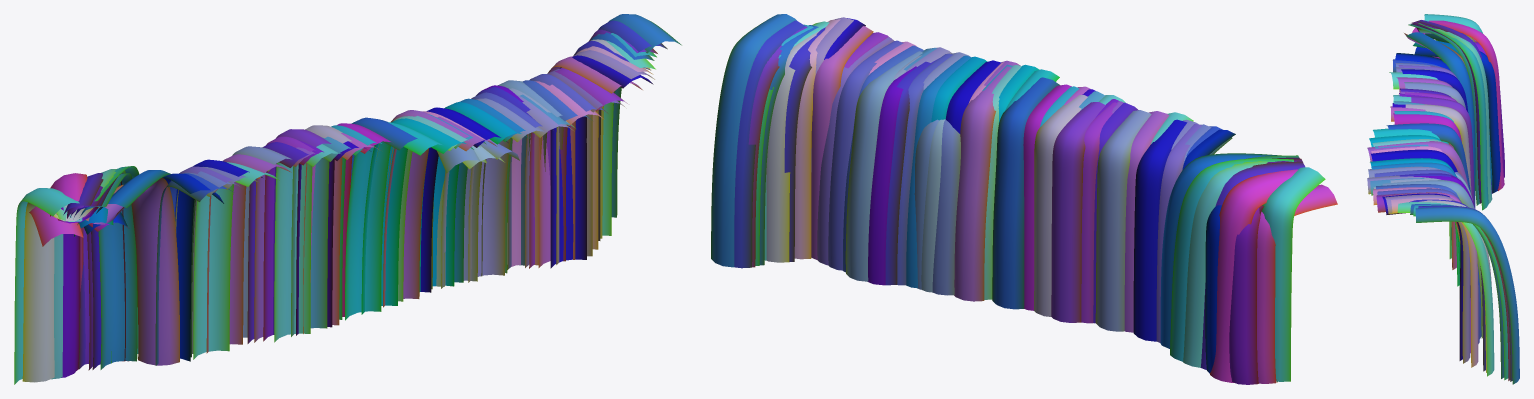
The model's file is Waterfall 1.fbx.
3 renders of one model, left to right at view 1: azimuth 30°, elevation 25°; view 2: azimuth 150°, elevation 25°; view 3: azimuth 270°, elevation 25°, orthographic. The views are drawn at different scales.
Visible parts, largest first — view 1: WaterFall; view 2: WaterFall; view 3: WaterFall.
Part boxes in pixels (x1,y1,x2,y2): WaterFall: [14, 14, 681, 384]; WaterFall: [711, 14, 1337, 384]; WaterFall: [1367, 14, 1519, 384].
Bounding box in the file's own units: 3503 × 1235 × 996.
